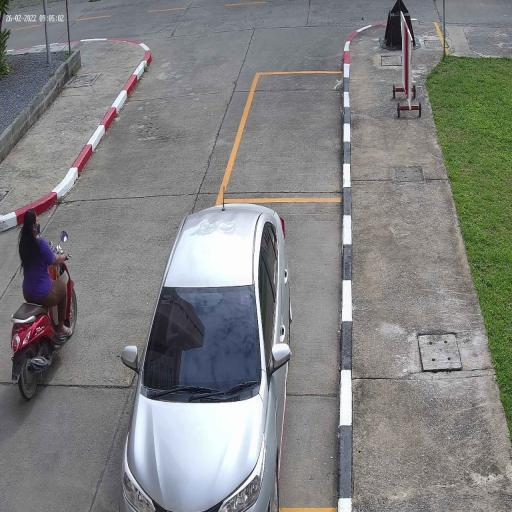car: (120, 204, 291, 512)
motorcycle: (10, 264, 78, 404)
